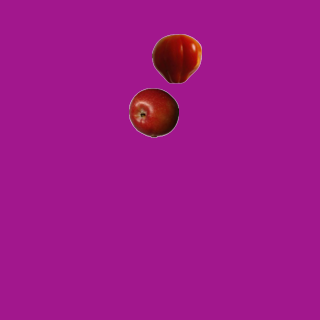Apple Braeburn: (128, 87, 178, 137)
Tomato 1: (151, 33, 201, 83)
